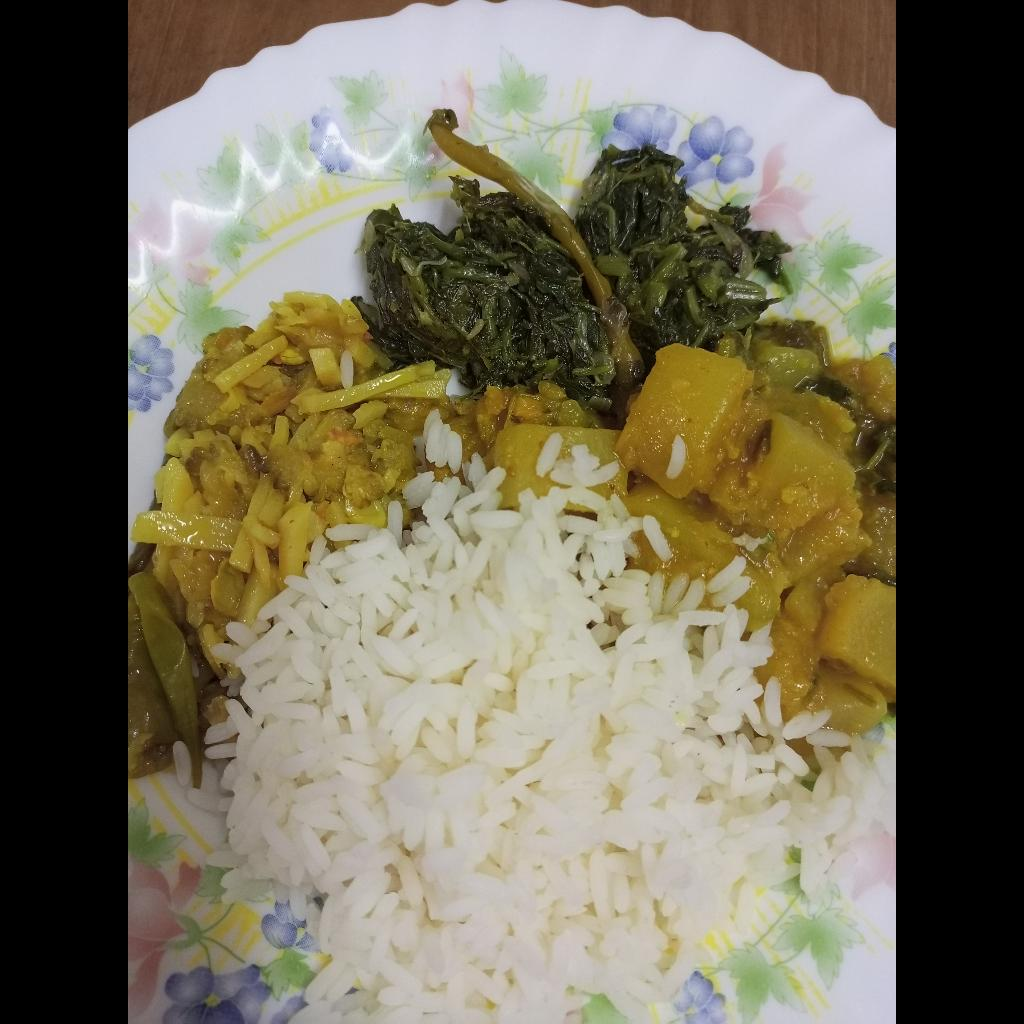lau: (441, 313, 896, 732)
potato: (130, 288, 456, 659)
potol: (128, 541, 221, 786)
rice: (170, 406, 879, 1024)
shak: (351, 104, 791, 420)
